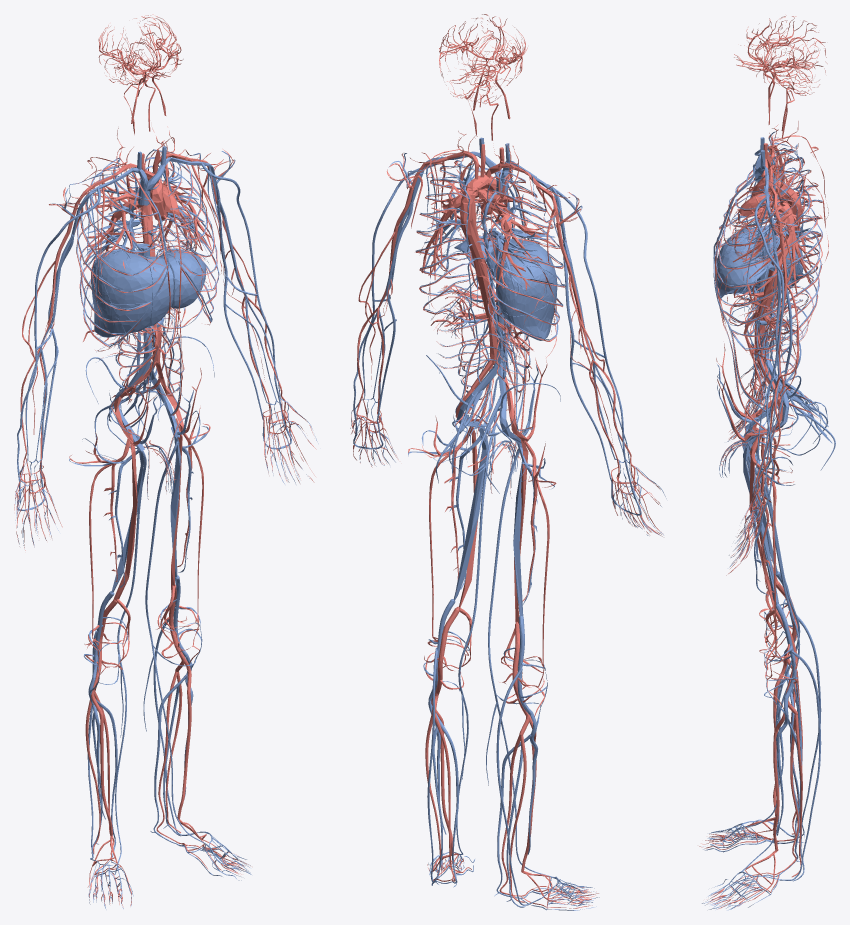
Rendered from vessels.glb.
The picture shows the model from 3 angles, left to right: view 1: azimuth 30°, elevation 25°; view 2: azimuth 150°, elevation 25°; view 3: azimuth 270°, elevation 25°; orthographic projection. The views are drawn at different scales.
Visible parts, largest first — view 1: venous-1, arterial-0; view 2: venous-1, arterial-0; view 3: venous-1, arterial-0.
Part boxes in pixels (box(x1,y1,x2,y2)): venous-1: box(15, 146, 318, 909); arterial-0: box(14, 14, 316, 907); venous-1: box(350, 137, 666, 910); arterial-0: box(351, 14, 662, 908); venous-1: box(702, 131, 835, 910); arterial-0: box(699, 15, 828, 908).
Bounding box in the file's own units: 0.6427 × 1.71 × 0.2506.
